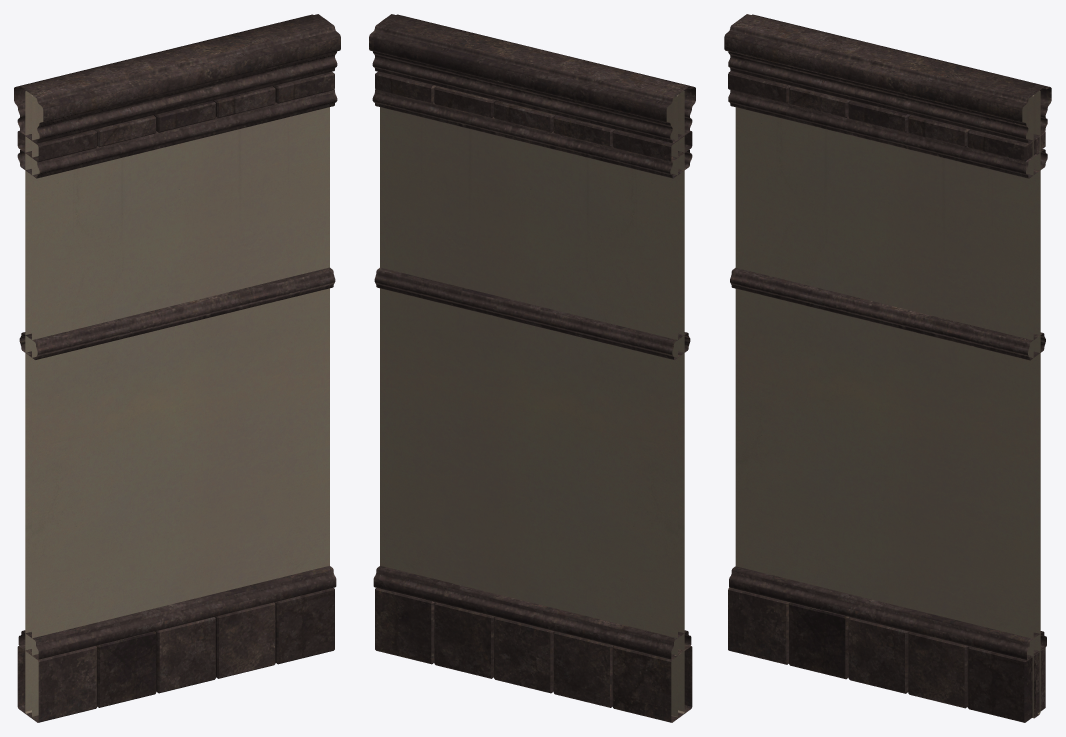
Rendered from SK2 WALL1 INT.fbx.
3 views of the same model, side by side, from view 1: azimuth 30°, elevation 25°; view 2: azimuth 150°, elevation 25°; view 3: azimuth 330°, elevation 25° (orthographic).
Parts seen in each view (by area): view 1: SK2 WALL1 INT; view 2: SK2 WALL1 INT; view 3: SK2 WALL1 INT.
Part boxes in pixels (x1=…): SK2 WALL1 INT: x1=14, y1=14, x2=340, y2=722; SK2 WALL1 INT: x1=369, y1=14, x2=695, y2=722; SK2 WALL1 INT: x1=724, y1=14, x2=1051, y2=722.
Bounding box in the file's own units: 200 × 400 × 33.96.
